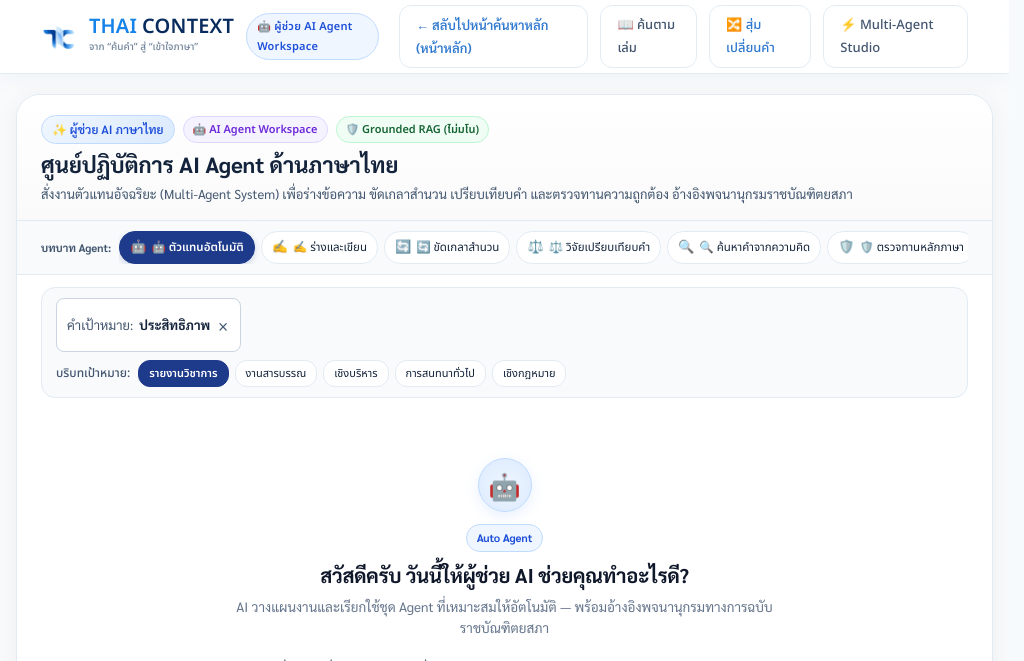
AIAssistantPageView Dedicated Page View › switches personas on the dedicated page and sends prompt to streaming API
This screenshot has width=1024, height=661.
Note: Click Rewrite Agent tab
Click the tab "🔄 🔄 ขัดเกลาสำนวน". click: point(447, 248)
box: left=384, top=232, right=510, bottom=264
(page scrolled)
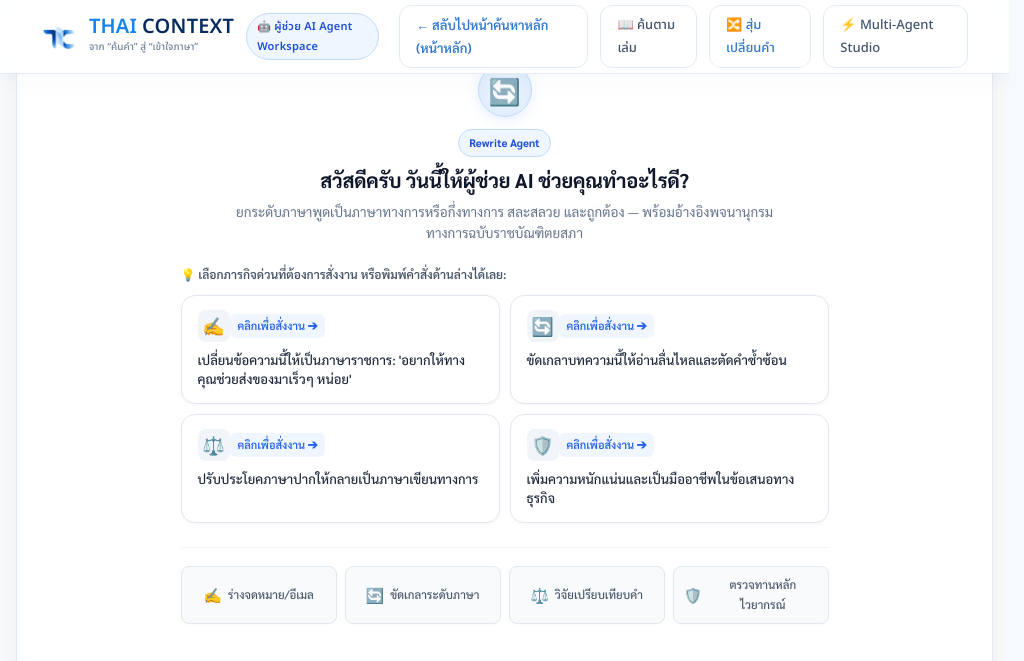
Note: Click quick mission button
Click the text "เปลี่ยนข้อความนี้ให้เป็นภาษาราชการ". click: point(340, 369)
box: left=198, top=350, right=482, bottom=389
(page scrolled)
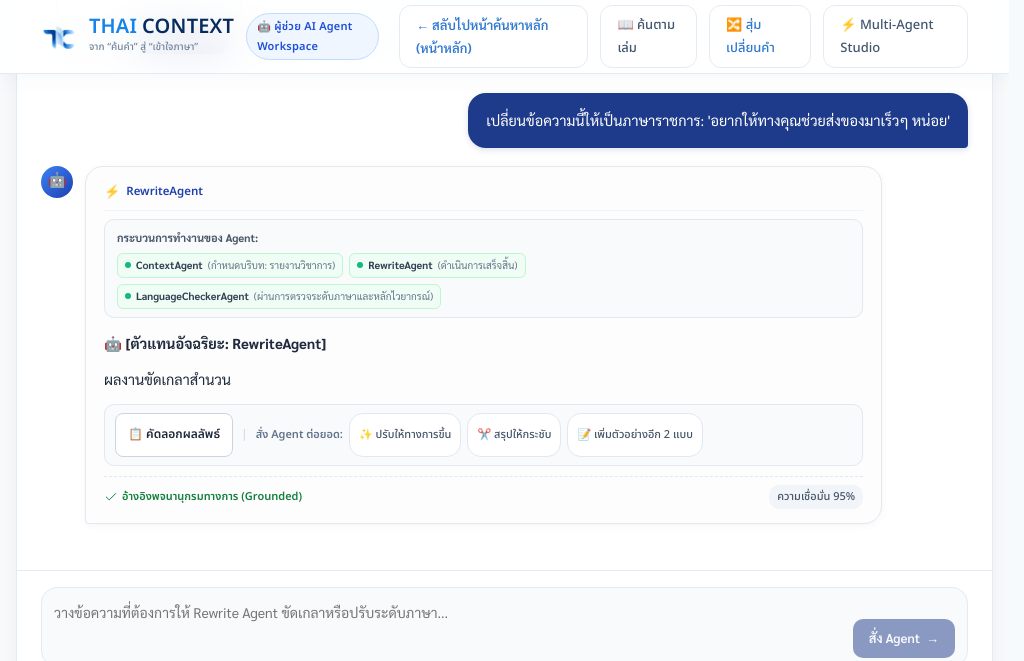
Expected: the text "ContextAgent" is shown, left=136, top=256, right=203, bottom=275
Expected: the button "📋 คัดลอกผลลัพธ์" is shown, left=115, top=413, right=233, bottom=457
